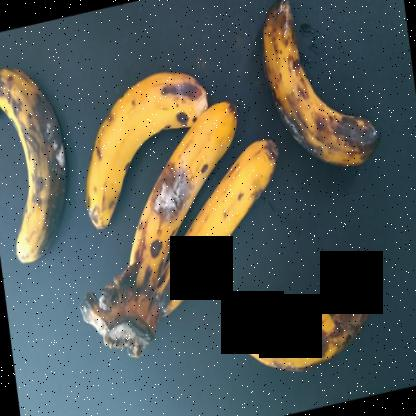ripe: (143, 135, 281, 325), (86, 66, 205, 220)
rotten: (252, 0, 375, 171), (223, 269, 386, 384), (1, 46, 71, 285)
